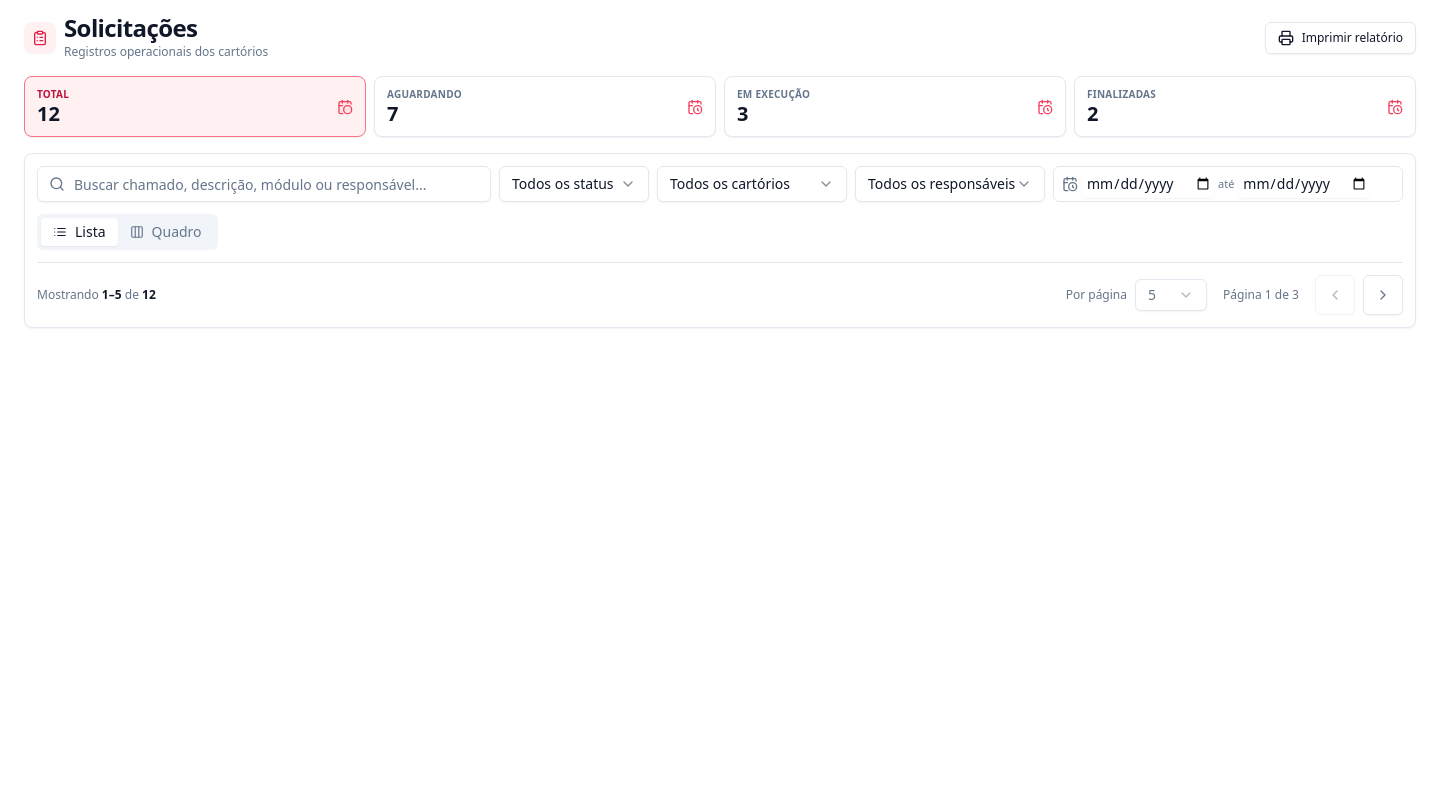
Test case: CS/CX — ações por permissão › abre o quadro compacto em tela cheia e fecha com Esc
The image size is (1440, 810).
Press the mouse on the tab "Quadro": {"x": 166, "y": 232} [118,218,214,246]
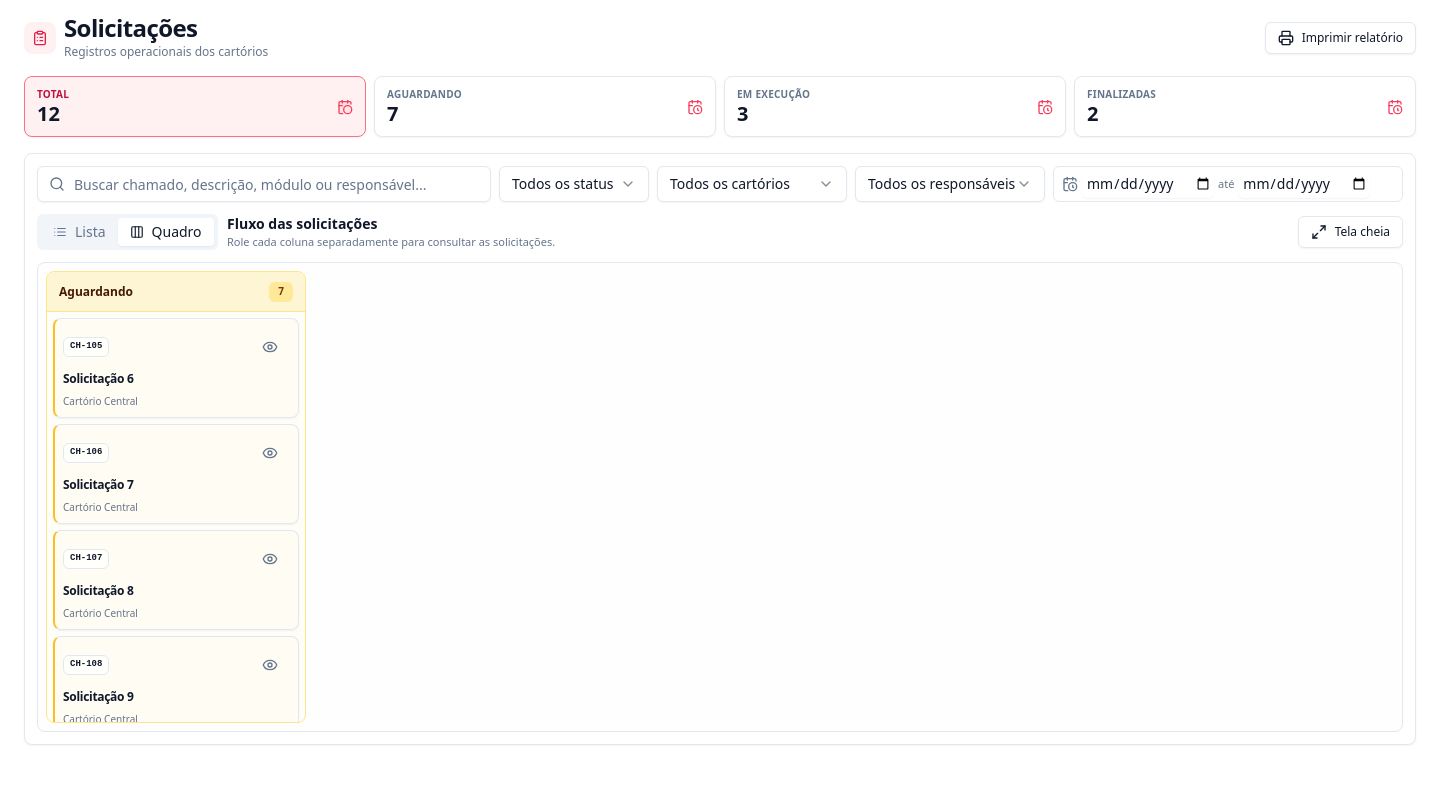
Click the button with aria-label "abrir quadro em tela cheia": {"x": 1350, "y": 232} [1298,216,1403,248]
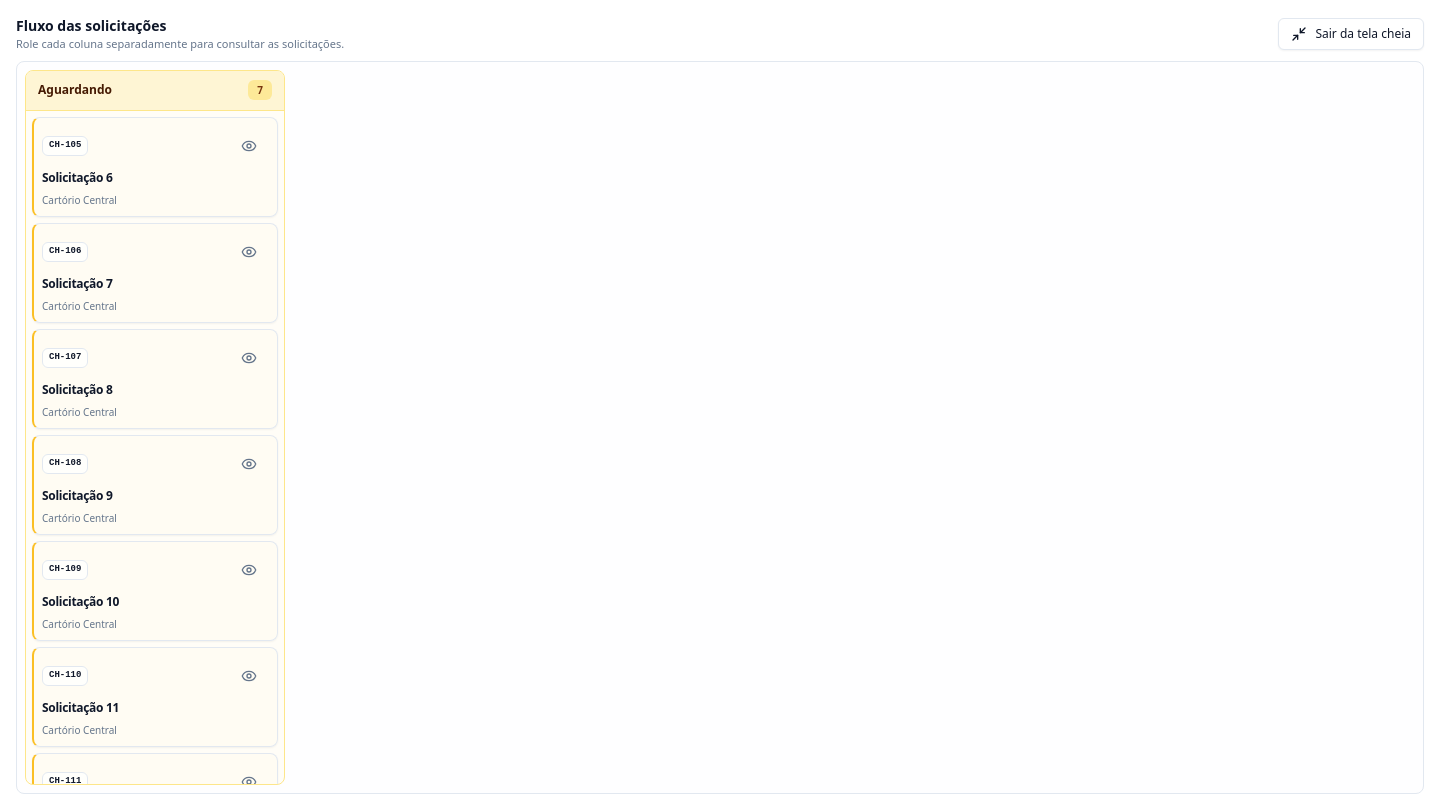
Expected: the button "Sair da tela cheia" is shown, [1278,18,1424,50]
Press Escape
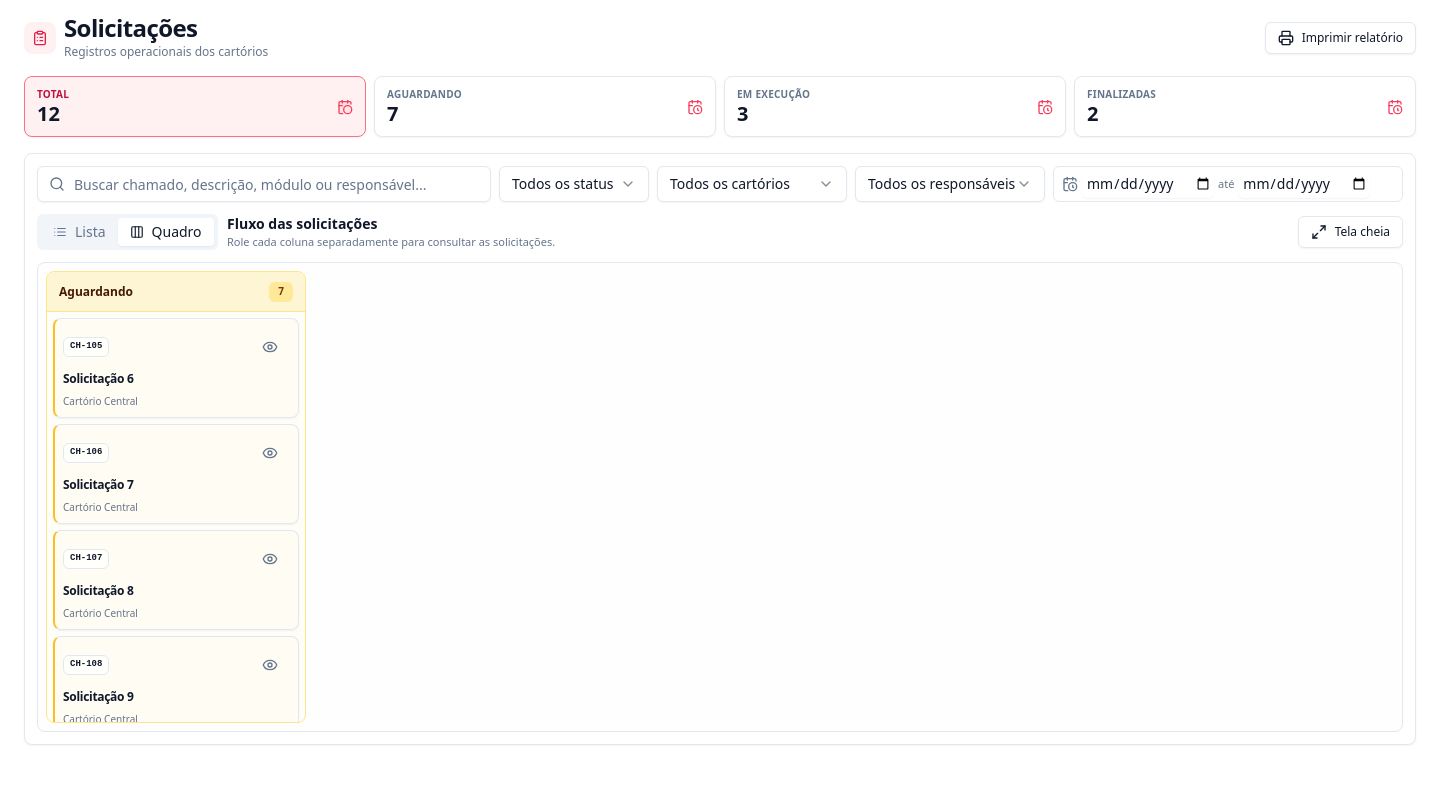
Expected: the button with aria-label "abrir quadro em tela cheia" is shown, [1298,216,1403,248]
